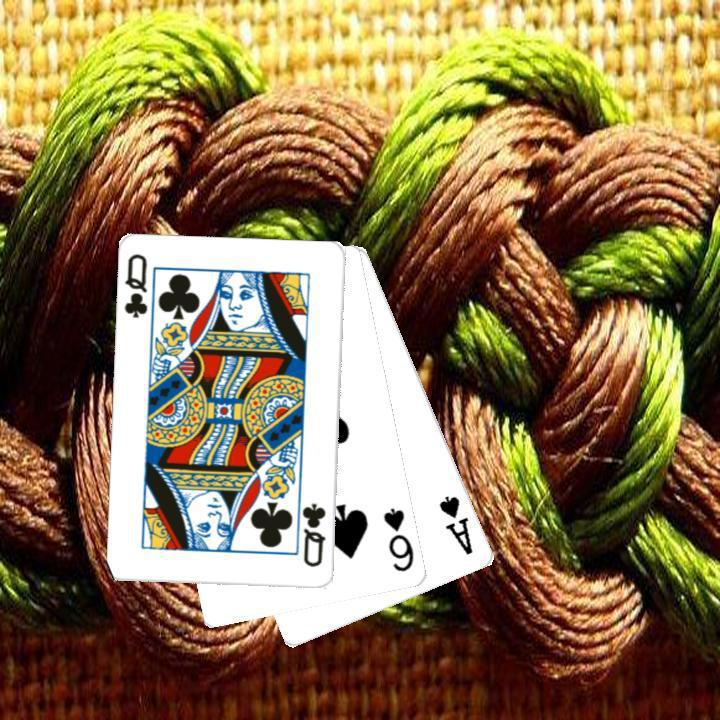6: (379, 503, 417, 574)
A: (435, 491, 475, 557)
Q: (298, 499, 329, 569), (120, 250, 150, 320)
